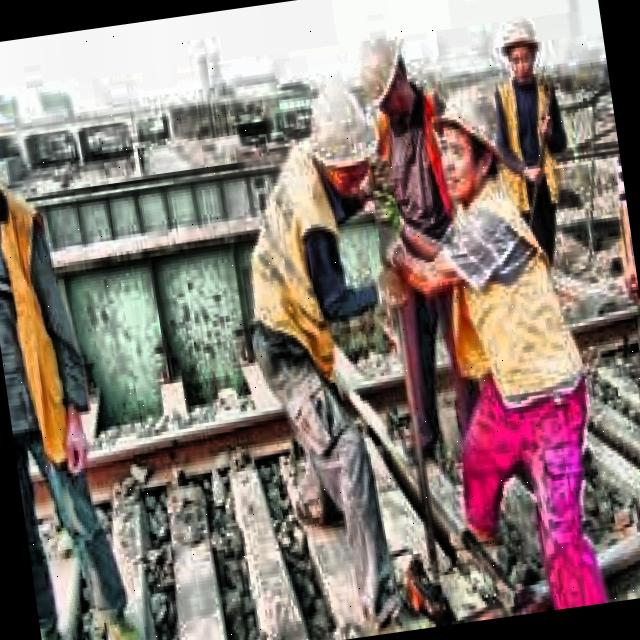helmet: (418, 66, 522, 214), (318, 12, 421, 134), (298, 74, 387, 208), (490, 7, 548, 91)
